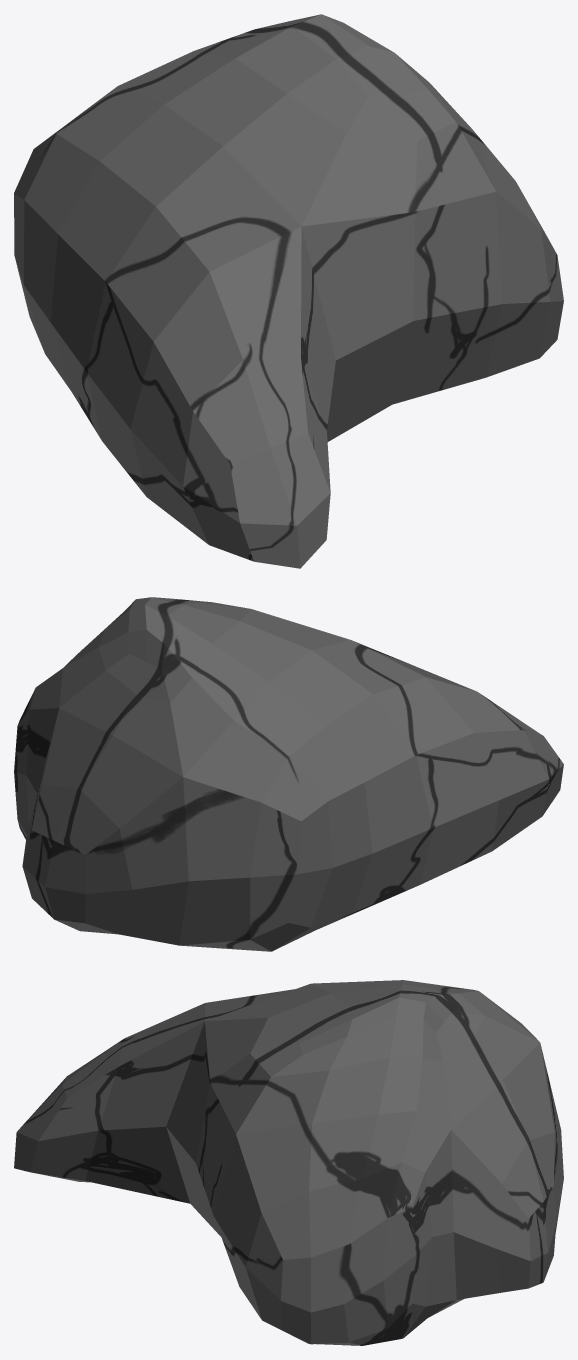
The model's file is Preda_solo 1.fbx.
The picture shows the model from 3 angles, top to bottom: view 1: azimuth 30°, elevation 25°; view 2: azimuth 150°, elevation 25°; view 3: azimuth 270°, elevation 25°; orthographic projection. The views are drawn at different scales.
Visible parts, largest first — view 1: Preda; view 2: Preda; view 3: Preda.
Boxes of the visible parts, x1,y1,x2,y2 form: Preda: [14, 14, 563, 568]; Preda: [14, 597, 563, 951]; Preda: [14, 980, 563, 1345].
Bounding box in the file's own units: 397 × 267 × 451.
